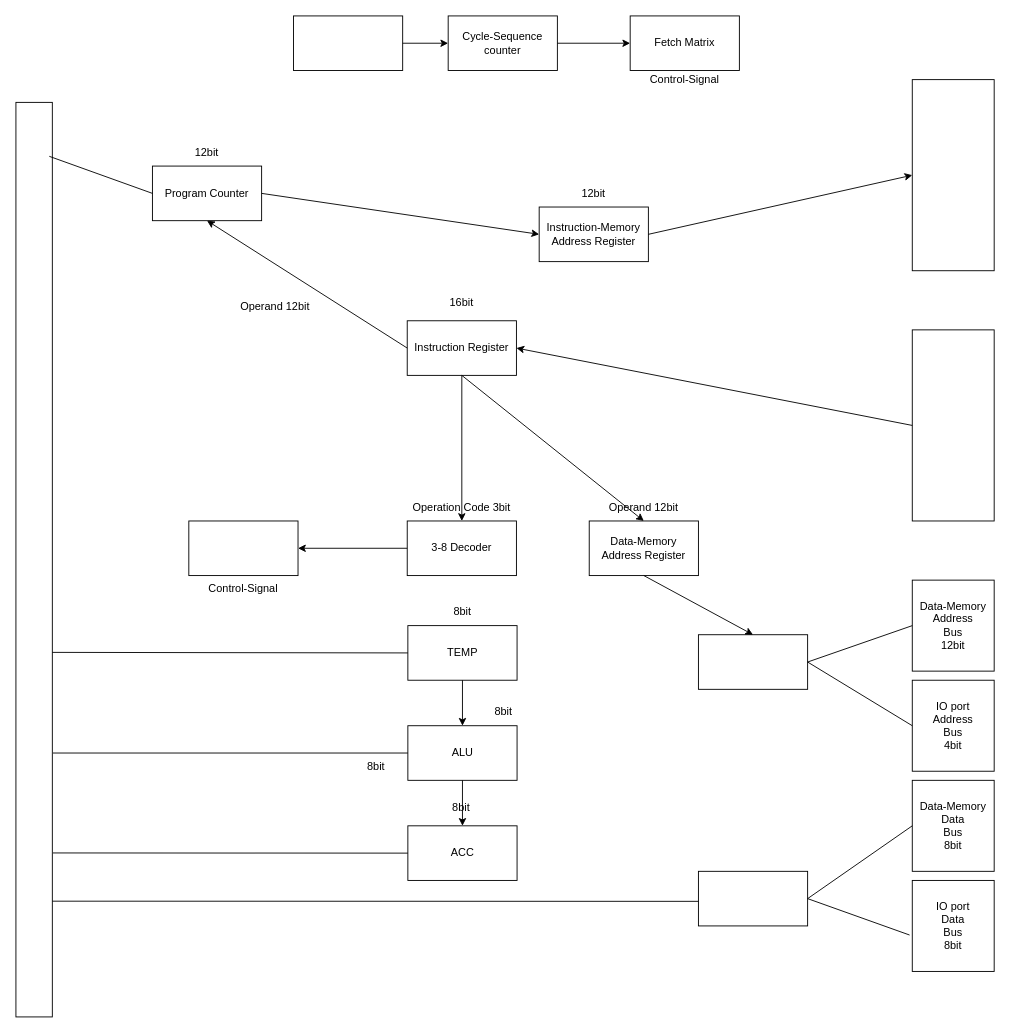
This 1010x1033 diagram has some shape labels left out. Here are the shapes that lost their labels. From the top down, the box of each, then its label:
(293, 15, 403, 71): Clock Generator
(911, 79, 994, 271): Instruction Memory Address Bus 12bit
(911, 329, 994, 521): Instruction Memory Data Bus 8bit
(15, 101, 52, 1017): Data Bus 8bit
(188, 520, 298, 576): Execute Matrix
(698, 634, 808, 689): address Interface
(698, 870, 808, 926): I/O Interface
